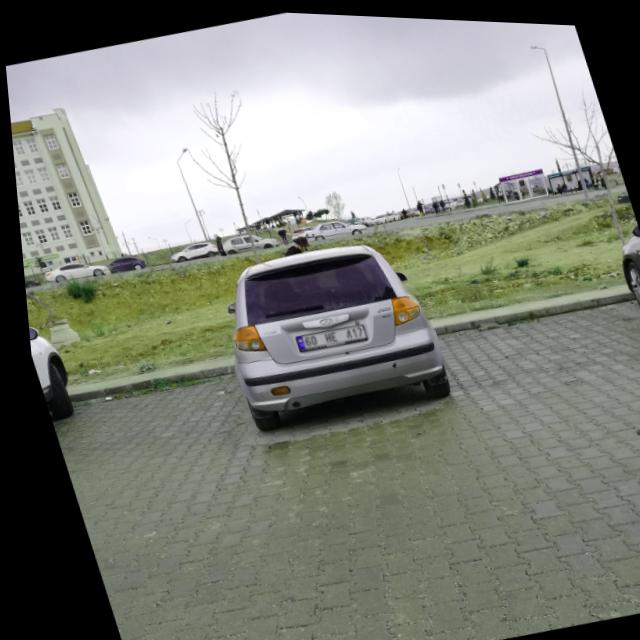license_plate: (289, 318, 363, 350)
